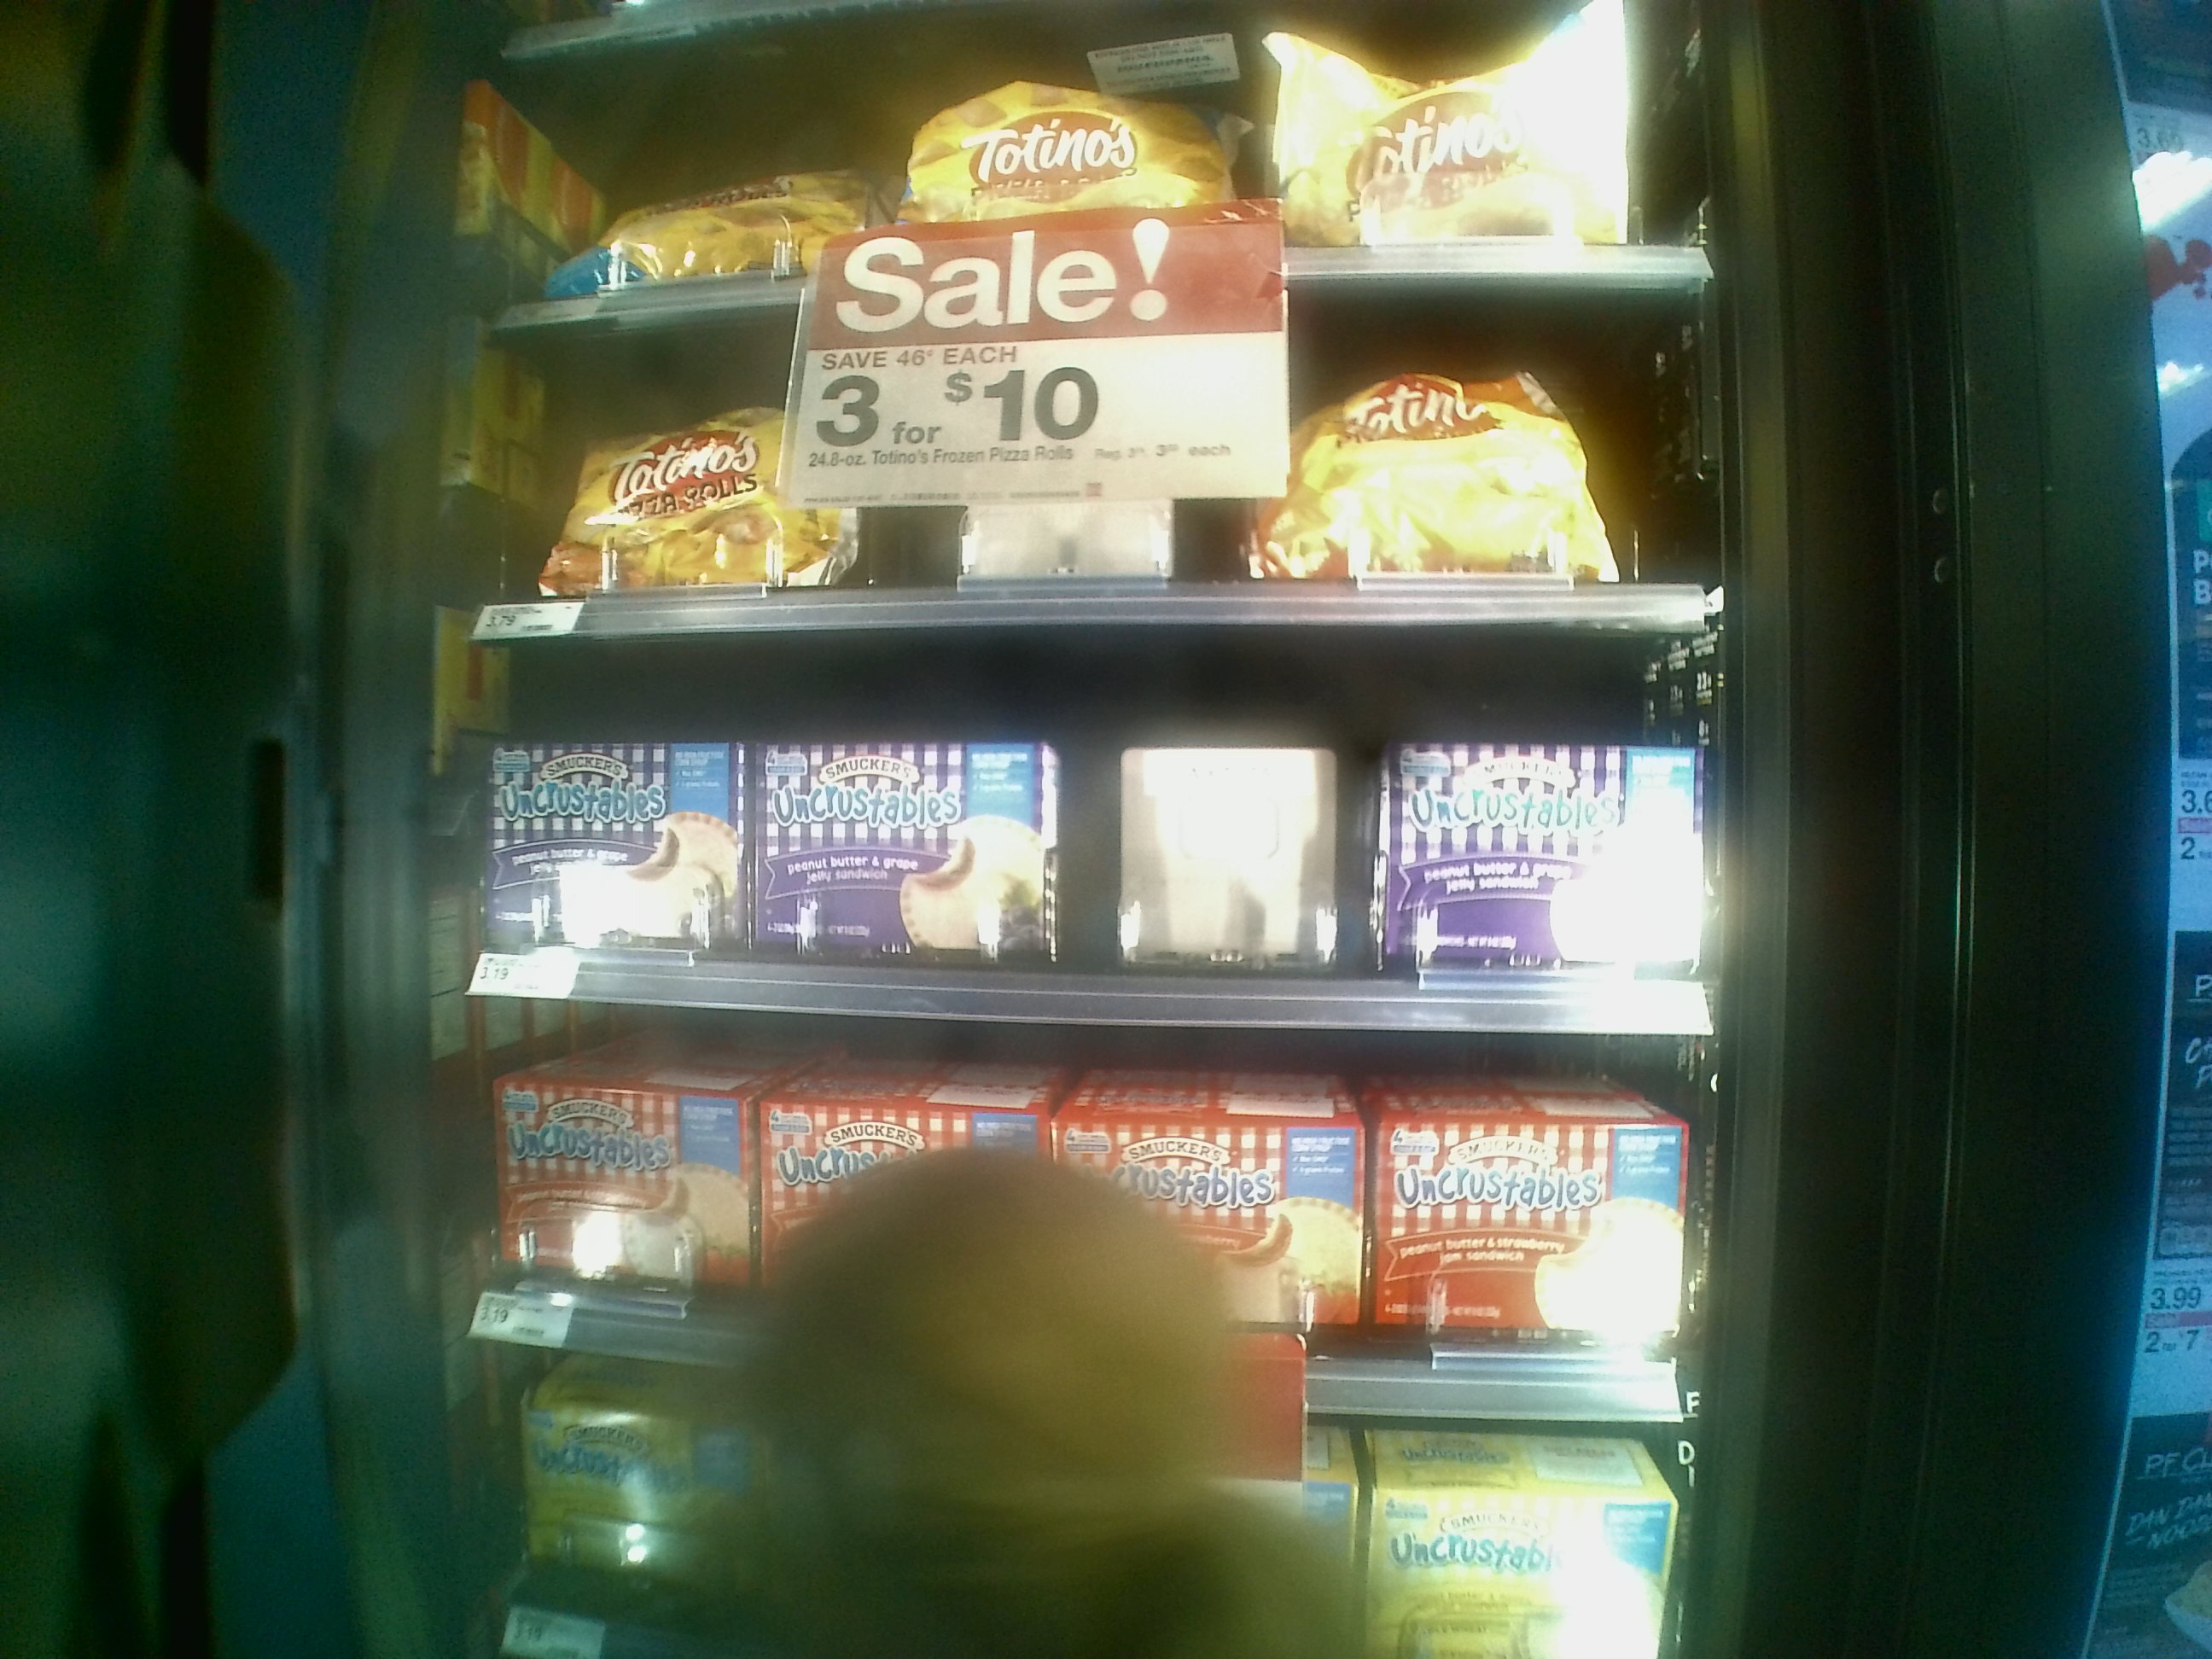shelf: (469, 622, 1700, 1019), (467, 319, 1707, 613)
